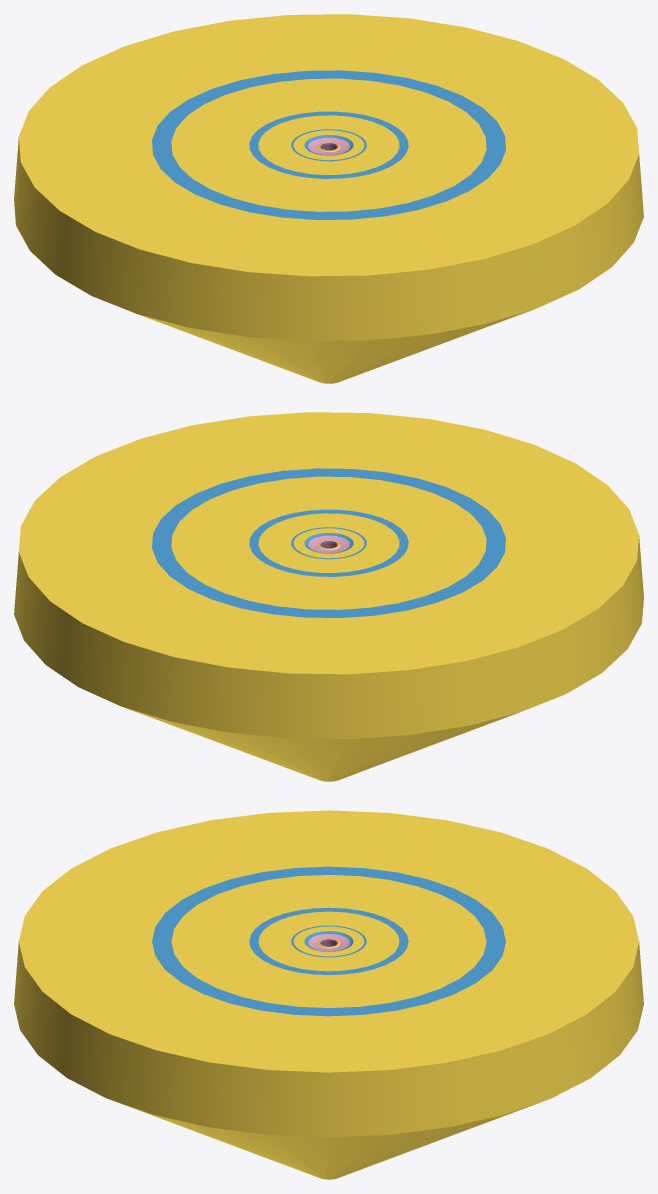
The model's file is M_ground.fbx.
3 renders of one model, top to bottom at view 1: azimuth 30°, elevation 25°; view 2: azimuth 150°, elevation 25°; view 3: azimuth 270°, elevation 25°, orthographic.
Parts seen in each view (by area): view 1: Circle; view 2: Circle; view 3: Circle.
Part boxes in pixels (left/top/right/bottom): Circle: left=14, top=14, right=643, bottom=383; Circle: left=14, top=412, right=643, bottom=781; Circle: left=14, top=810, right=643, bottom=1179.
Bounding box in the file's own units: 11317 × 4597 × 11315.
